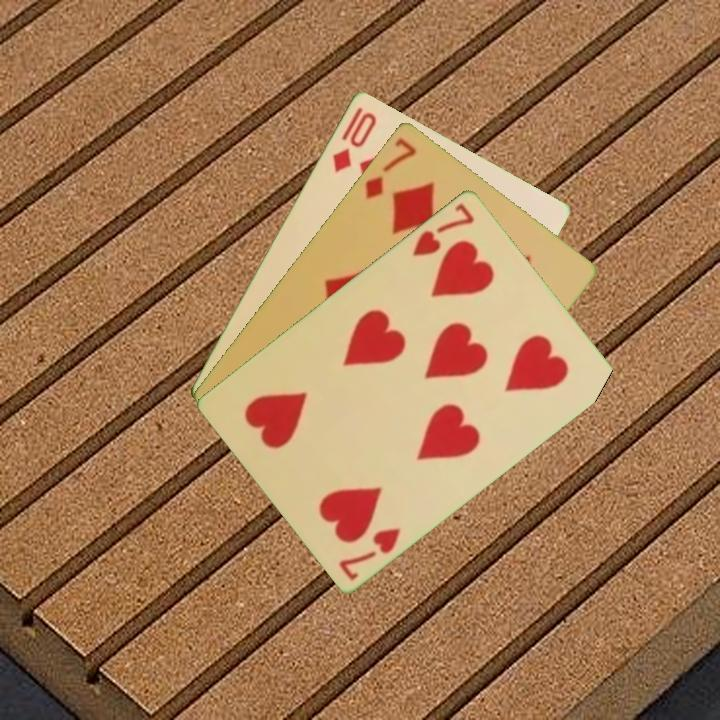10d: (328, 107, 380, 175)
7d: (361, 133, 420, 202)
7h: (408, 199, 478, 259), (335, 523, 404, 583)
